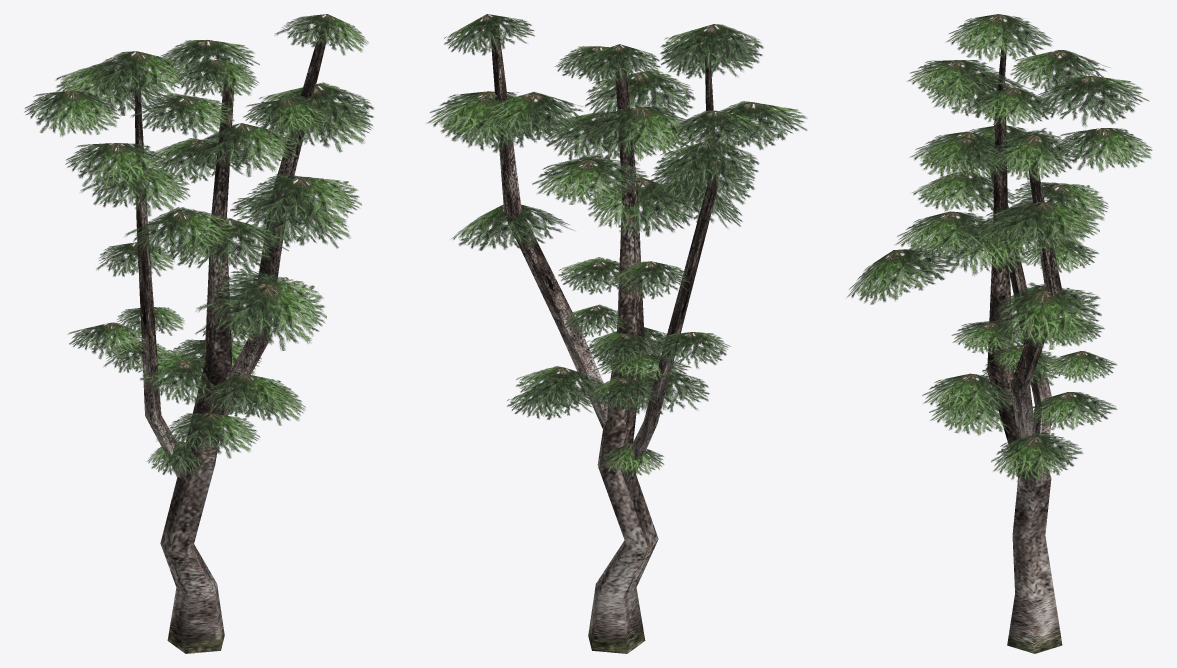
File: shu6.gltf
The picture shows the model from 3 angles, left to right: view 1: azimuth 30°, elevation 25°; view 2: azimuth 150°, elevation 25°; view 3: azimuth 270°, elevation 25°; orthographic projection. The views are drawn at different scales.
Visible parts, largest first — view 1: Cylinder020; view 2: Cylinder020; view 3: Cylinder020.
Part boxes in pixels (left/top/right/bottom): Cylinder020: left=24, top=14, right=373, bottom=653; Cylinder020: left=426, top=14, right=807, bottom=653; Cylinder020: left=846, top=14, right=1152, bottom=653.
Bounding box in the file's own units: 7.03 × 11.95 × 5.9.
Materials: 1 (1 with a texture image).
